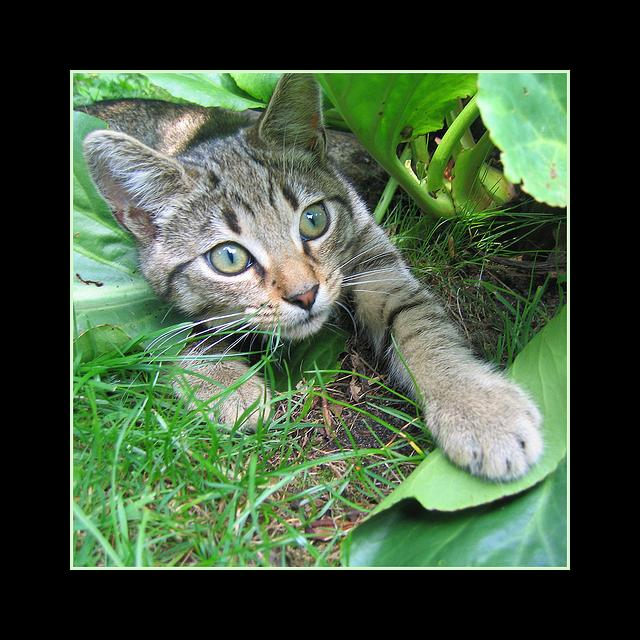animals: (90, 70, 326, 306)
